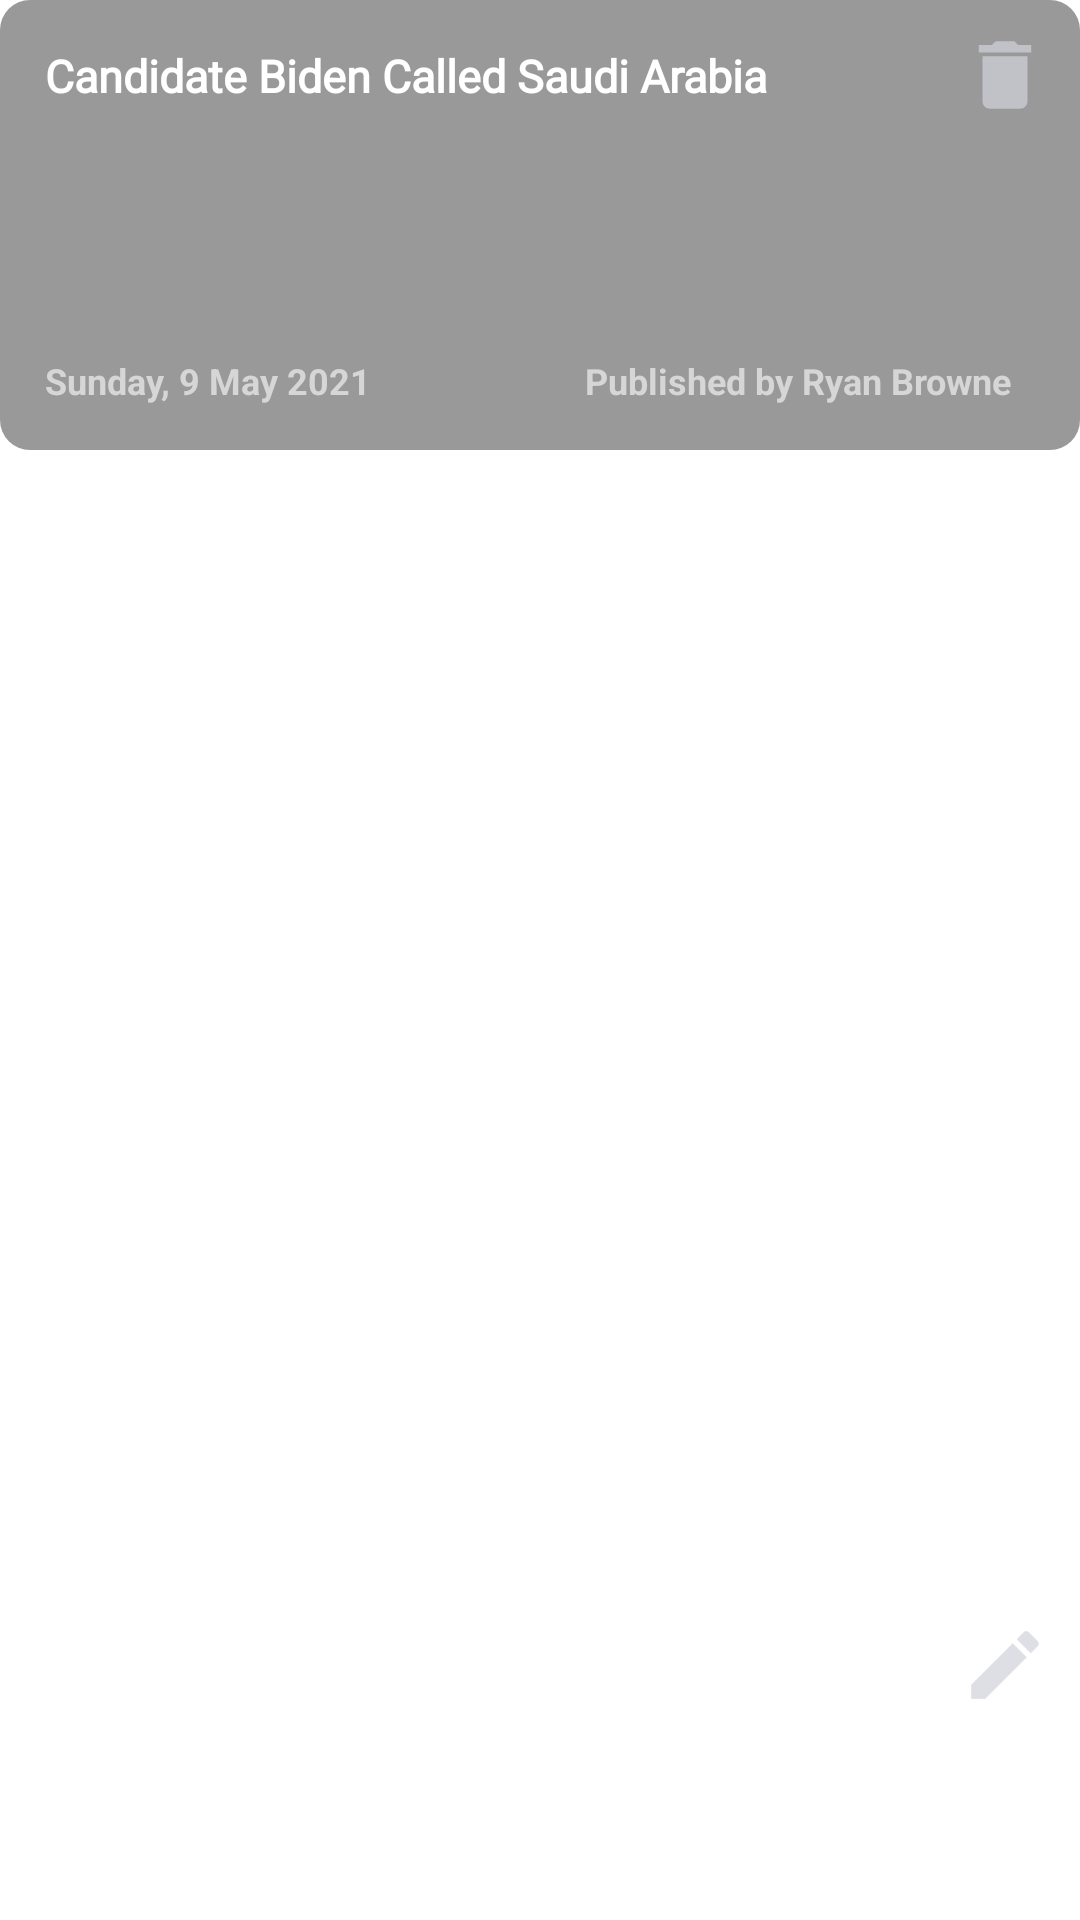

Screen size 1080×1920. Icon name, then its box in pixels as region(x1, y1, x2, y2):
edit: region(971, 1631, 1038, 1699)
